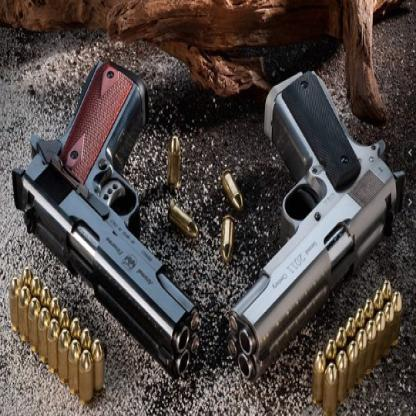handgun: (10, 57, 200, 370), (228, 65, 404, 389)
